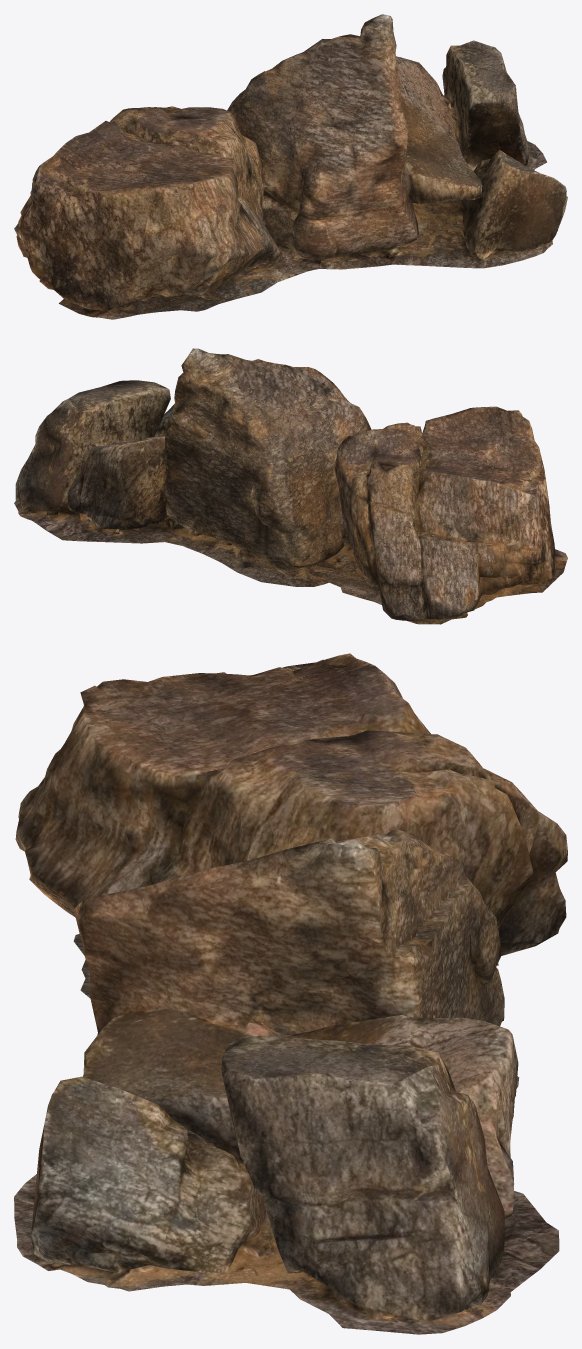
Rendered from namaqualand_boulder_02.glb.
3 views of the same model, one above another, from view 1: azimuth 30°, elevation 25°; view 2: azimuth 150°, elevation 25°; view 3: azimuth 270°, elevation 25° (orthographic). The views are drawn at different scales.
Parts seen in each view (by area): view 1: boulder_02; view 2: boulder_02; view 3: boulder_02.
Part boxes in pixels (x1=…): boulder_02: x1=14, y1=14, x2=567, y2=319; boulder_02: x1=14, y1=348, x2=567, y2=624; boulder_02: x1=14, y1=653, x2=567, y2=1334.
Size of the model in its own units: 2.52 by 0.8802 by 1.23.
1 material, 1 textured.
